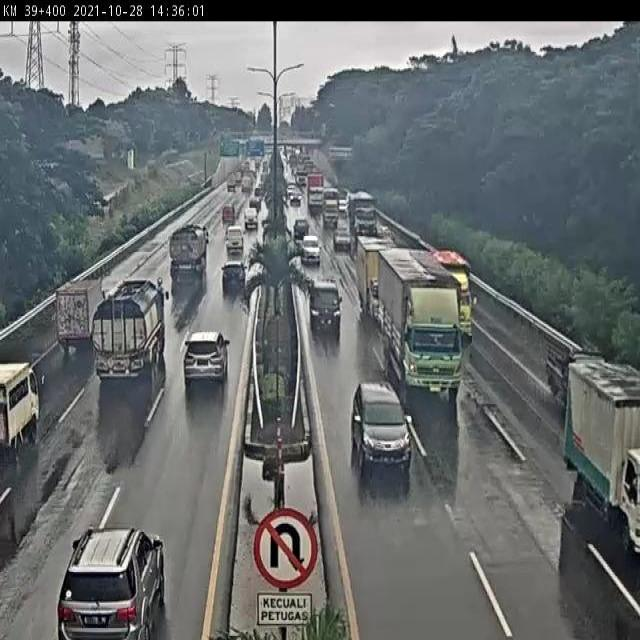big truck: (376, 253, 469, 391), (113, 285, 154, 376), (172, 225, 214, 275)
car: (69, 534, 163, 626), (355, 383, 410, 481), (308, 280, 346, 352), (188, 330, 226, 390), (222, 225, 247, 259), (302, 233, 322, 271), (223, 260, 244, 291), (338, 224, 355, 251), (294, 213, 307, 240), (246, 207, 256, 229)
small truck: (565, 349, 640, 544), (5, 357, 41, 447), (358, 232, 390, 312), (58, 280, 98, 336)
